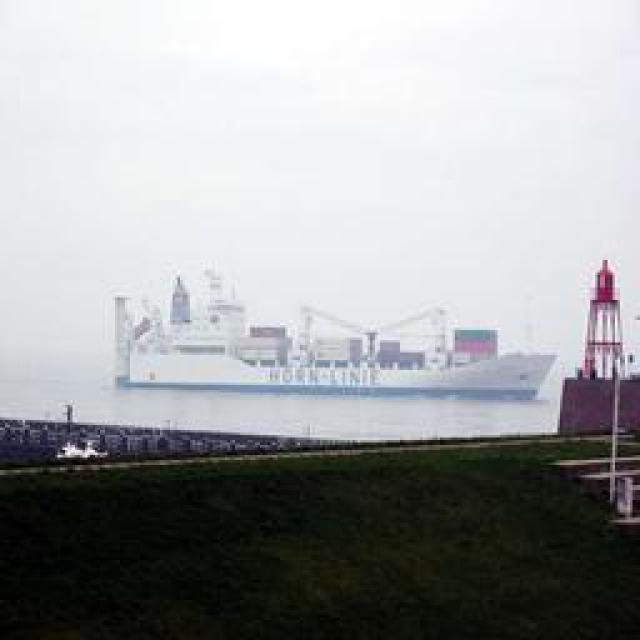Ship: (115, 269, 573, 414)
